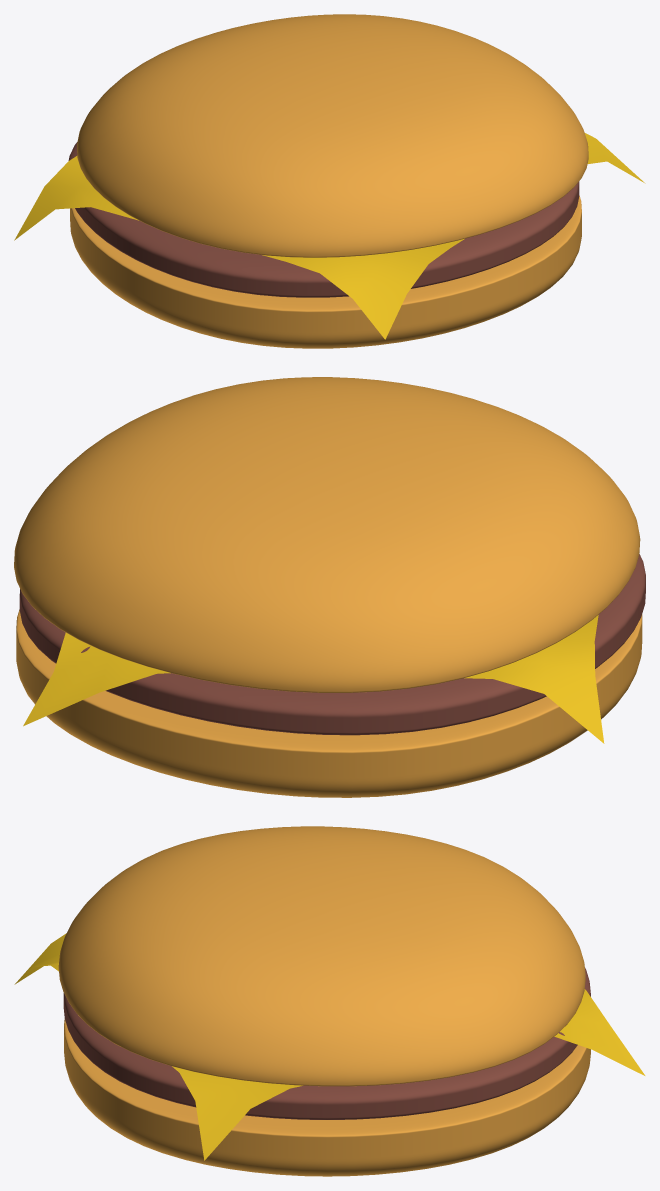
Rendered from hamburger.glb.
3 renders of one model, top to bottom at view 1: azimuth 30°, elevation 25°; view 2: azimuth 150°, elevation 25°; view 3: azimuth 270°, elevation 25°, orthographic. The views are drawn at different scales.
Visible parts, largest first — view 1: Cube.002, Cube, Cube.001, Plane.001; view 2: Cube.002, Cube, Cube.001, Plane.001; view 3: Cube.002, Cube, Cube.001, Plane.001.
Boxes of the visible parts, x1,y1,x2,y2 form: Cube.002: [77, 14, 588, 257]; Cube: [70, 195, 581, 348]; Cube.001: [68, 142, 579, 297]; Plane.001: [14, 133, 645, 339]; Cube.002: [14, 377, 640, 692]; Cube: [16, 609, 642, 797]; Cube.001: [19, 554, 645, 735]; Plane.001: [23, 615, 604, 743]; Cube.002: [58, 826, 585, 1086]; Cube: [64, 1019, 590, 1176]; Cube.001: [63, 968, 590, 1119]; Plane.001: [14, 933, 645, 1160].
Bounding box in the file's own units: 11.02 × 4.14 × 10.83.
